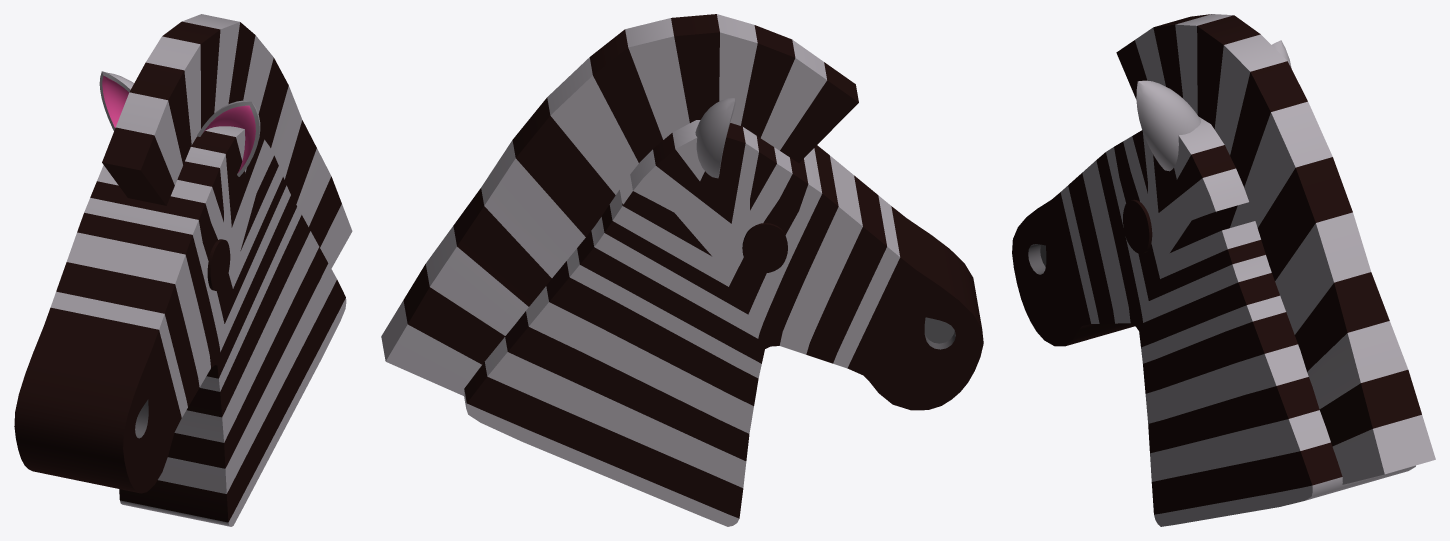
The model's file is Zebra.gltf.
3 views of the same model, side by side, from view 1: azimuth 30°, elevation 25°; view 2: azimuth 150°, elevation 25°; view 3: azimuth 270°, elevation 25° (orthographic). The views are drawn at different scales.
Visible parts, largest first — view 1: Plane.114, Cube.6216, Cube.6217, Circle.1882; view 2: Plane.114, Cube.6216, Cube.6217, Circle.1882; view 3: Plane.114, Cube.6216, Cube.6217, Circle.1882.
Boxes of the visible parts, x1=… form: Plane.114: x1=14, y1=126, x2=346, y2=526; Cube.6216: x1=102, y1=14, x2=352, y2=268; Cube.6217: x1=99, y1=71, x2=260, y2=176; Circle.1882: x1=207, y1=239, x2=230, y2=290; Plane.114: x1=463, y1=120, x2=983, y2=526; Cube.6216: x1=381, y1=14, x2=858, y2=395; Cube.6217: x1=695, y1=98, x2=735, y2=178; Circle.1882: x1=742, y1=223, x2=787, y2=273; Plane.114: x1=1012, y1=117, x2=1415, y2=526; Cube.6216: x1=1116, y1=14, x2=1435, y2=484; Cube.6217: x1=1136, y1=40, x2=1291, y2=171; Circle.1882: x1=1123, y1=199, x2=1152, y2=253.
Bounding box in the file's own units: 1.97 × 1.9 × 1.48.
